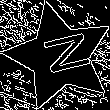N_W: (29, 31, 90, 82)
